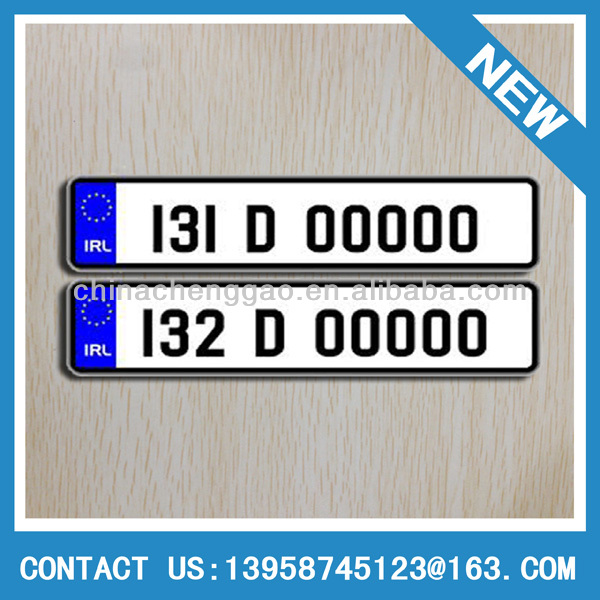number_plate: (65, 173, 543, 270)
